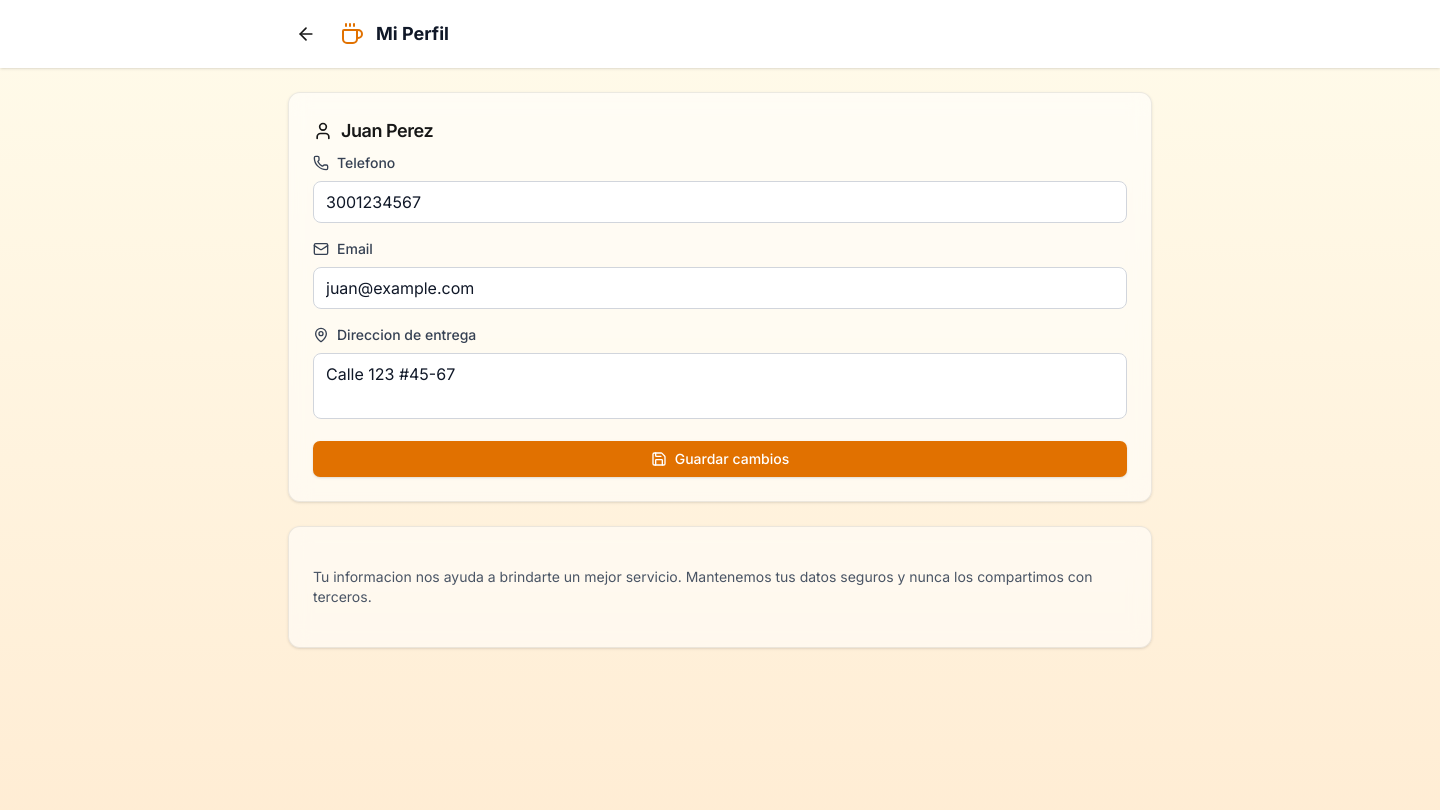
Test: PortalPerfilPage › Save Functionality › should show success message after saving
Expected: the field showing "3001234567" below "Telefono" is shown, x1=313 y1=181 x2=1127 y2=223
Click the button "Guardar cambios" at (720, 459), box x1=313 y1=441 x2=1127 y2=477
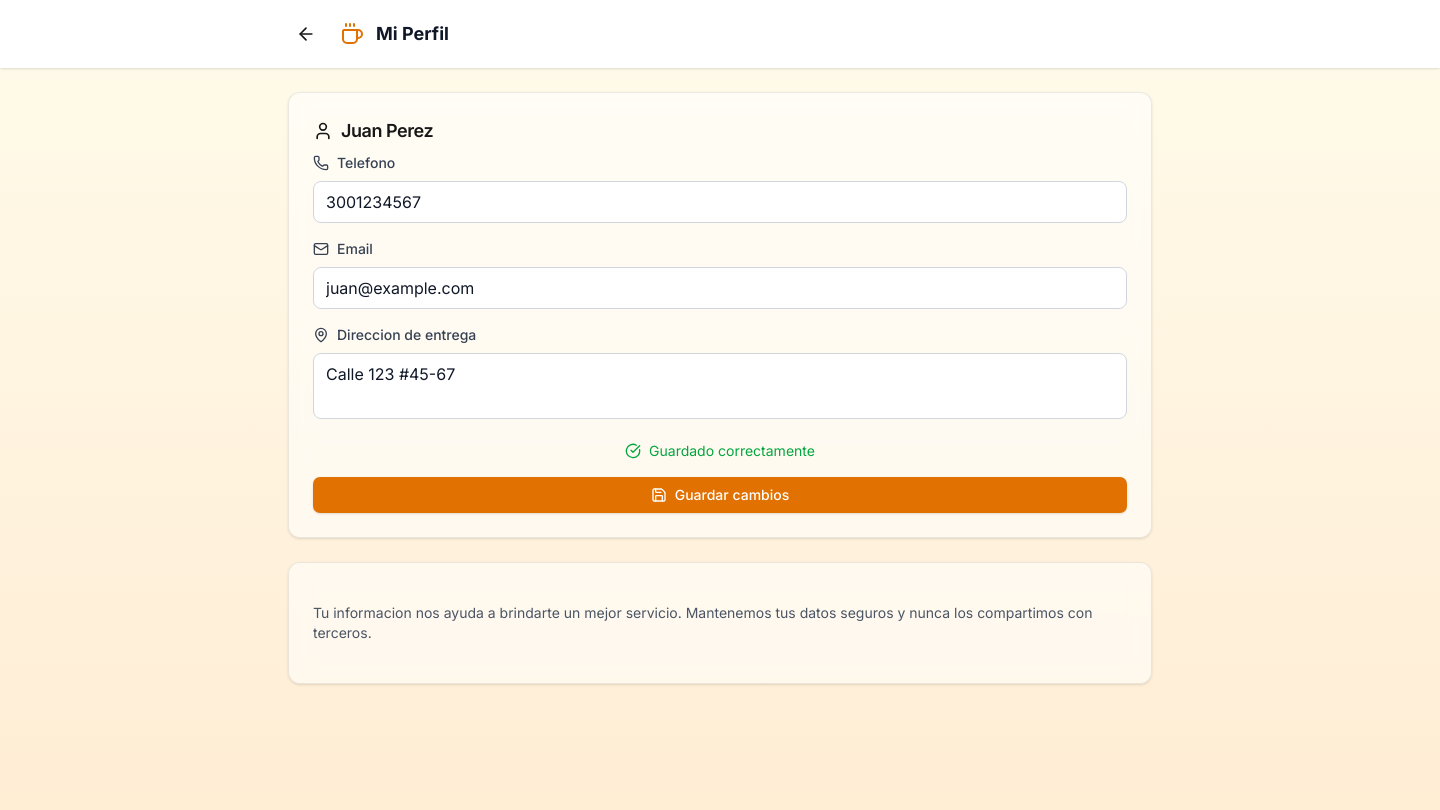
Now the text "Guardado correctamente" is shown, box x1=625 y1=442 x2=815 y2=459
